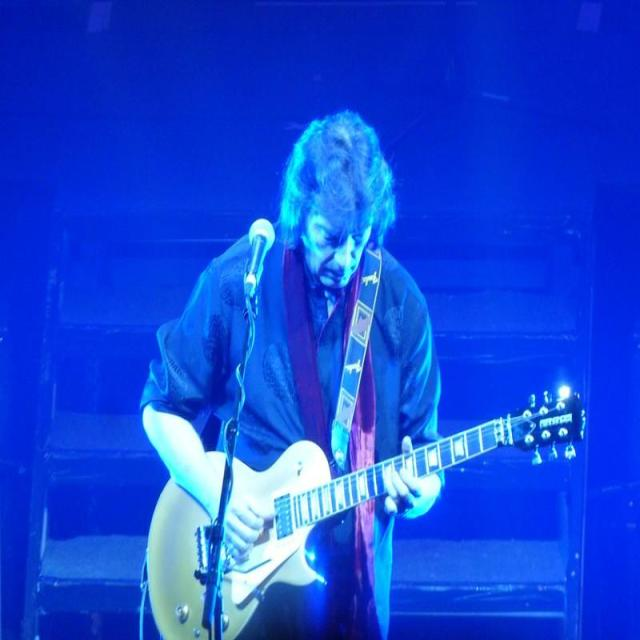guitar: (223, 396, 584, 638)
